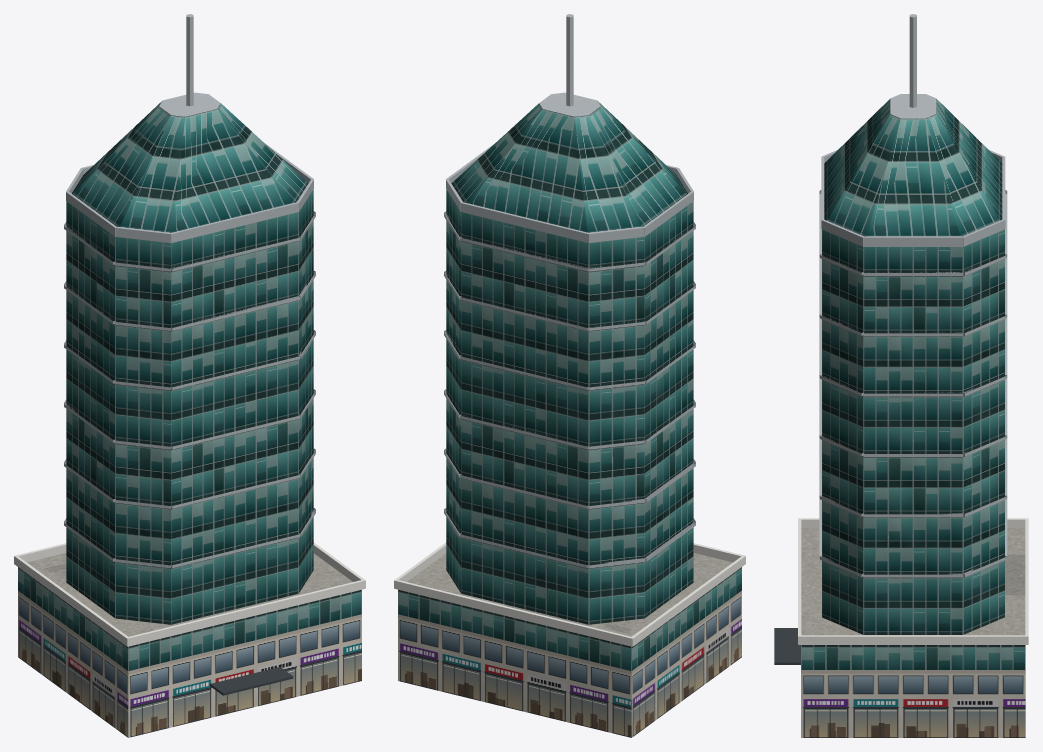
Rendered from OW_CaoOc_VP_VatGoc_64.fbx.
The picture shows the model from 3 angles, left to right: view 1: azimuth 30°, elevation 25°; view 2: azimuth 150°, elevation 25°; view 3: azimuth 270°, elevation 25°; orthographic projection.
Visible parts, largest first — view 1: OW_CaoOc_VP_VatGoc_64_LOD0; view 2: OW_CaoOc_VP_VatGoc_64_LOD0; view 3: OW_CaoOc_VP_VatGoc_64_LOD0.
Boxes of the visible parts, x1,y1,x2,y2 form: OW_CaoOc_VP_VatGoc_64_LOD0: (14,14,365,737); OW_CaoOc_VP_VatGoc_64_LOD0: (394,14,745,737); OW_CaoOc_VP_VatGoc_64_LOD0: (774,14,1028,737).
Size of what is drawn, in the model's own units: 33.7 by 88.1 by 30.55.
